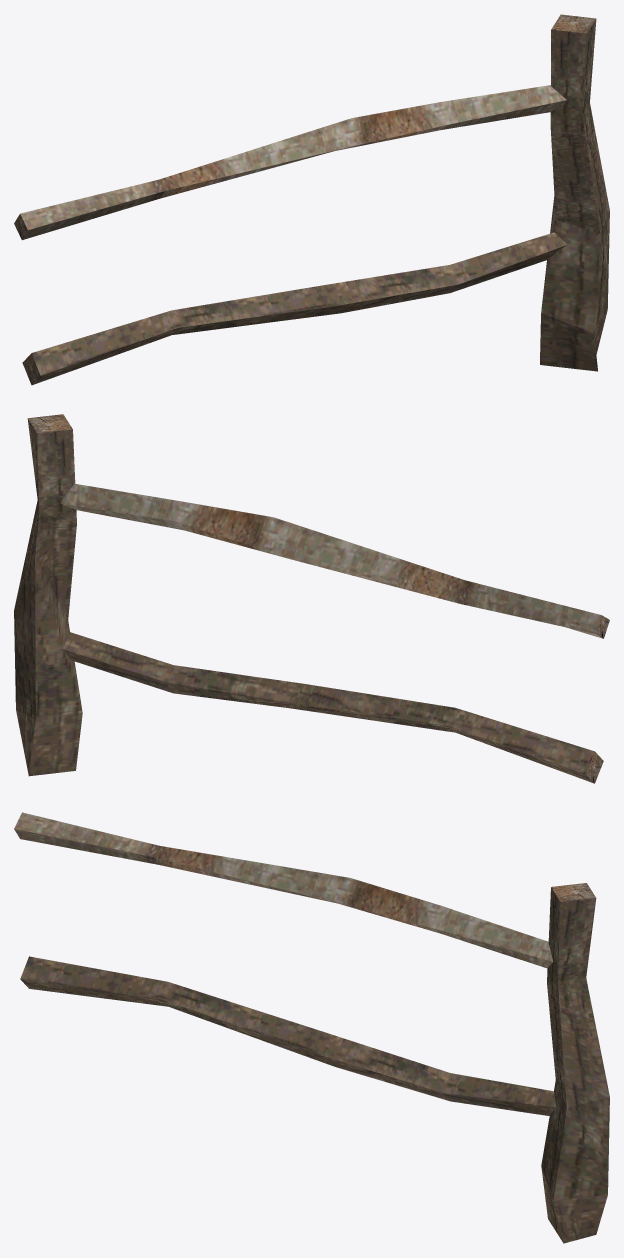
File: Urban_WoodenFenceOpenAlt_Model.fbx
3 views of the same model, one above another, from view 1: azimuth 30°, elevation 25°; view 2: azimuth 150°, elevation 25°; view 3: azimuth 330°, elevation 25° (orthographic).
Visible parts, largest first — view 1: Urban_WoodenFenceOpenAlt_Mesh; view 2: Urban_WoodenFenceOpenAlt_Mesh; view 3: Urban_WoodenFenceOpenAlt_Mesh.
Part boxes in pixels (box(x1,y1,x2,y2)): Urban_WoodenFenceOpenAlt_Mesh: box(14, 14, 609, 385); Urban_WoodenFenceOpenAlt_Mesh: box(14, 414, 609, 783); Urban_WoodenFenceOpenAlt_Mesh: box(14, 812, 609, 1243).
Size of the model in its own units: 2.19 by 1.2 by 0.2664.
